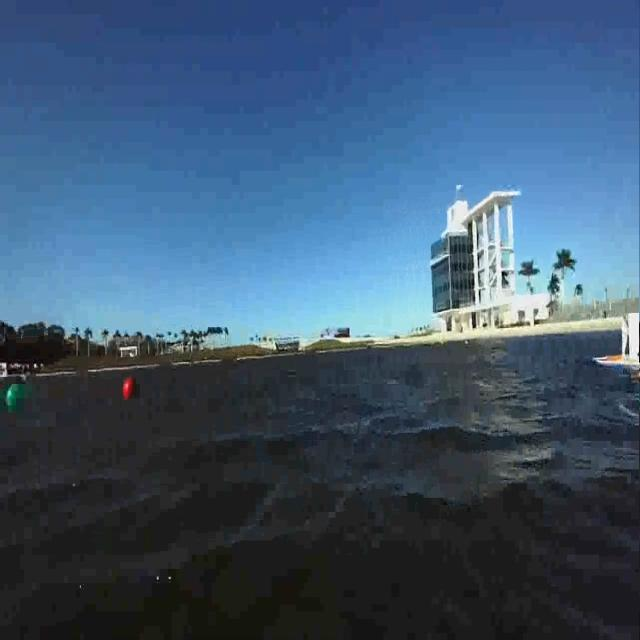green-buoy: (6, 386, 34, 410)
red-buoy: (119, 367, 142, 408)
